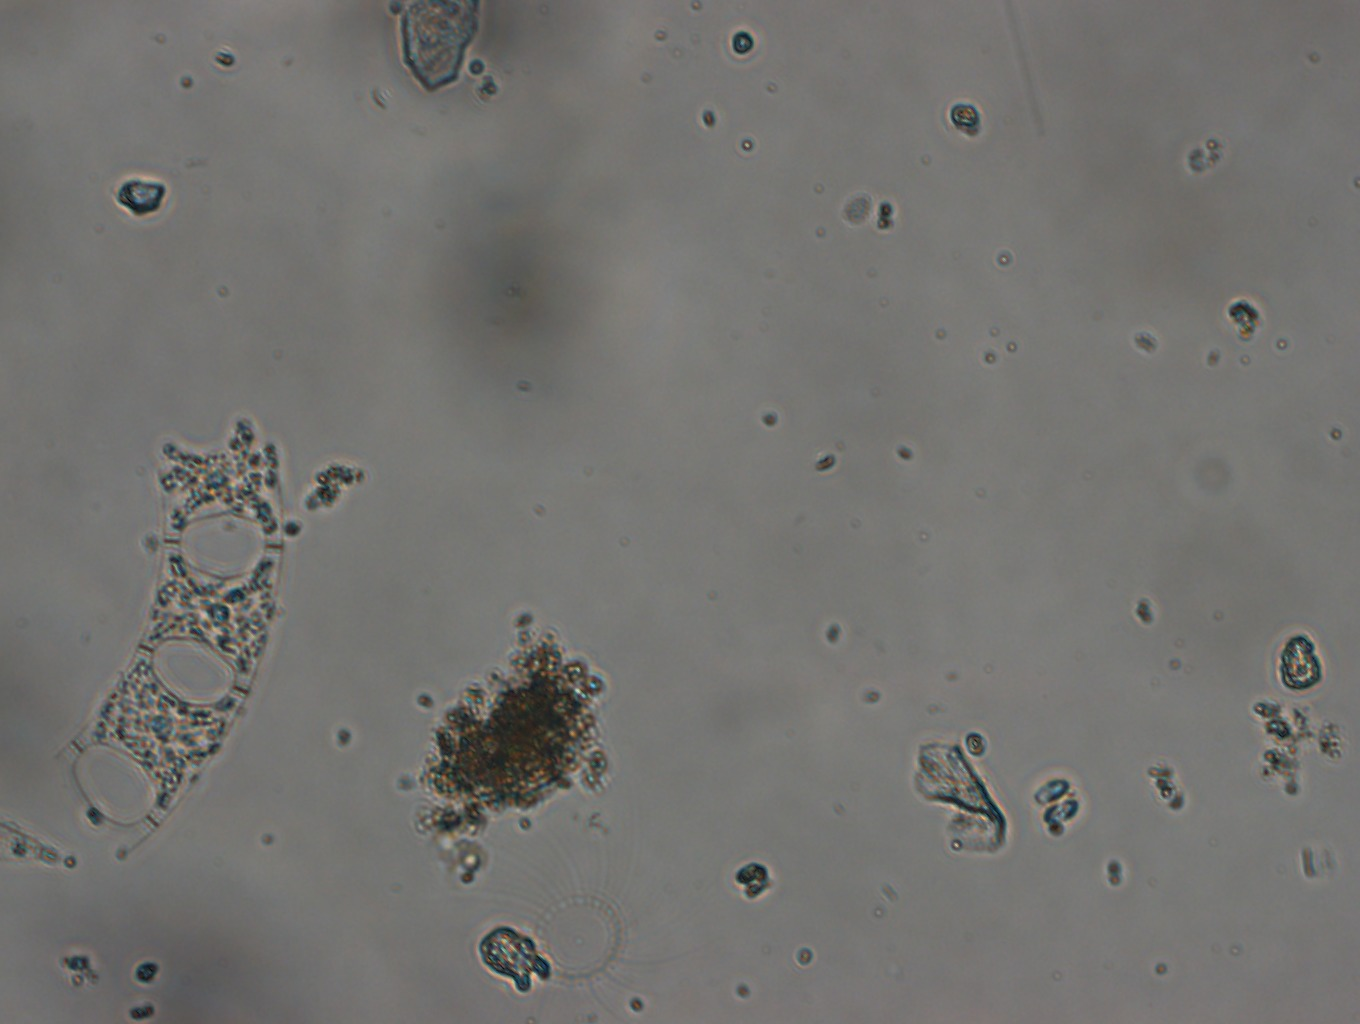eucampia: (68, 411, 291, 853)
